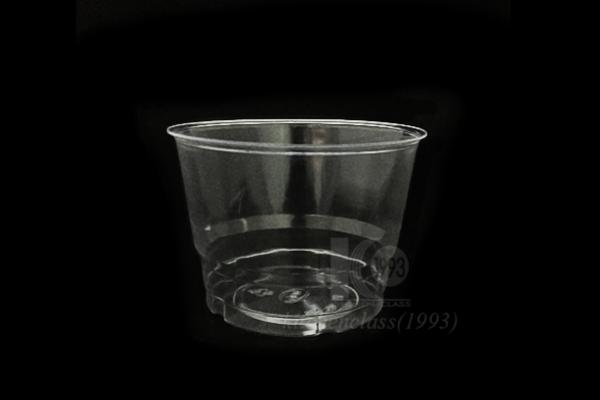plastic_glass: (131, 71, 519, 369)
